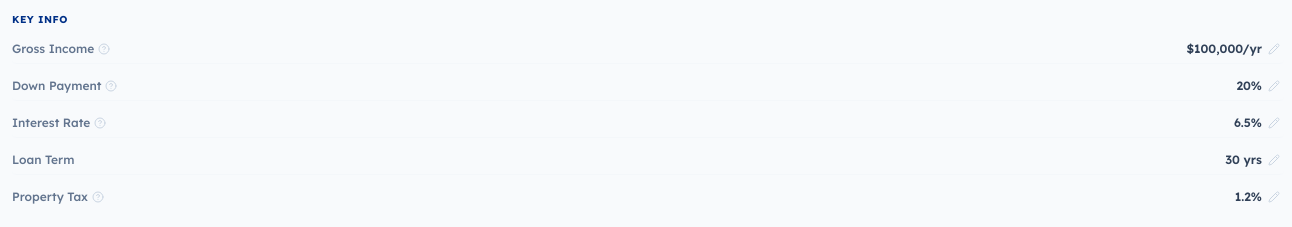
Test: Decimal Synchronization across Forms (TRID Regulations) › preserves exact decimals when typing into CompactLivePreview inputs
The width and height of the screenshot is (1292, 227).
# Click to enter edit mode
Click the text "6.5%" at x=1257, y=123, box [1230,115,1284,131]
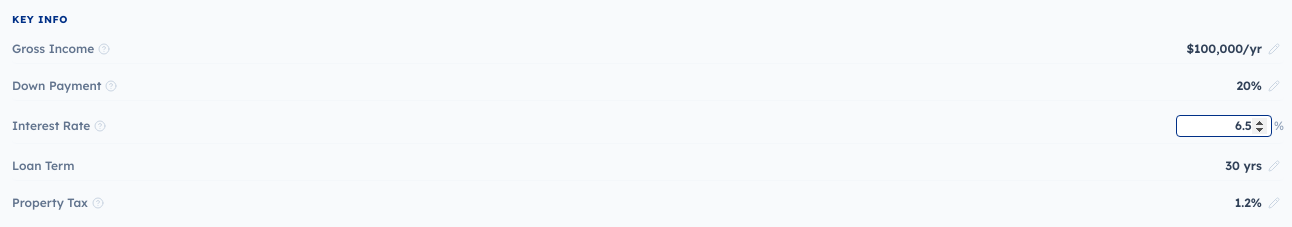
Check: the number field is shown
# Type a precise TRID-compliant interest rate
Replace the text in the number field with "6.125" at x=1224, y=126, box [1176,115,1272,137]
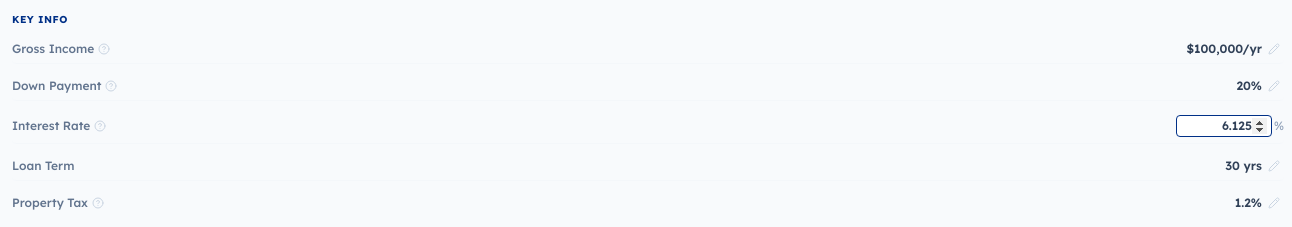
# Blur to trigger save
Leave the number field, box [1176,115,1272,137]
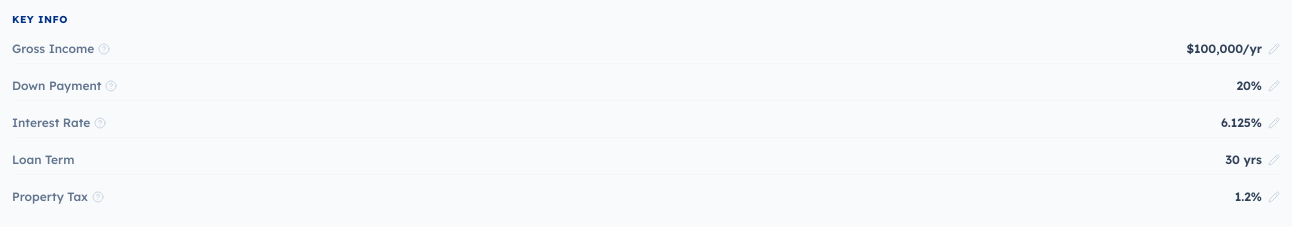
Check: the text "6.125%" is shown, box [1217,115,1284,131]
